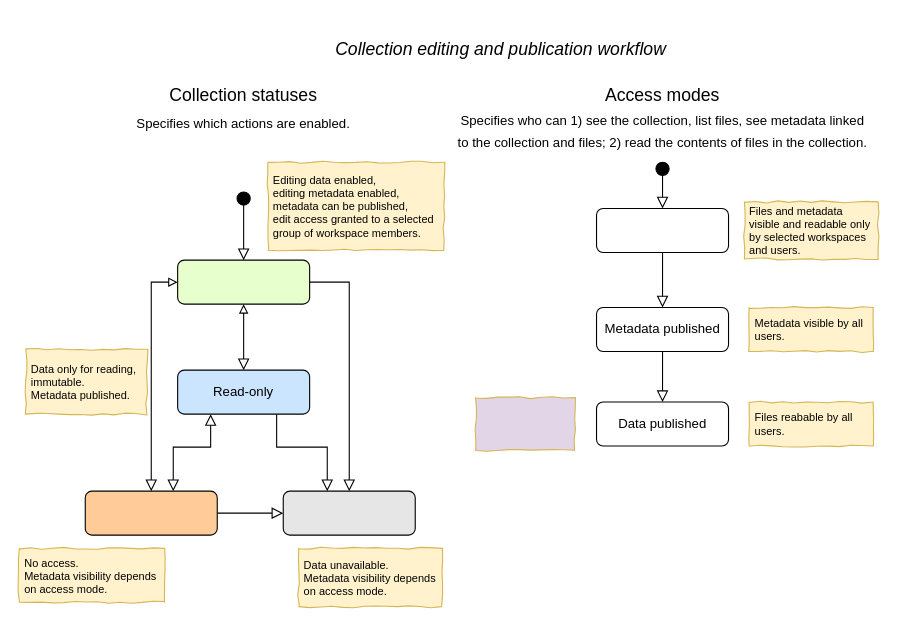
Image size: 898x626. Some labels were removed from this diagram. The centre of each missing label's shape, as x and y in pixels:
"Active" goes at (243,281).
"Archived" goes at (150,512).
"Deleted" goes at (348,512).
"Only allowed in Read-only status." goes at (524,423).
"Restricted" goes at (662,229).
